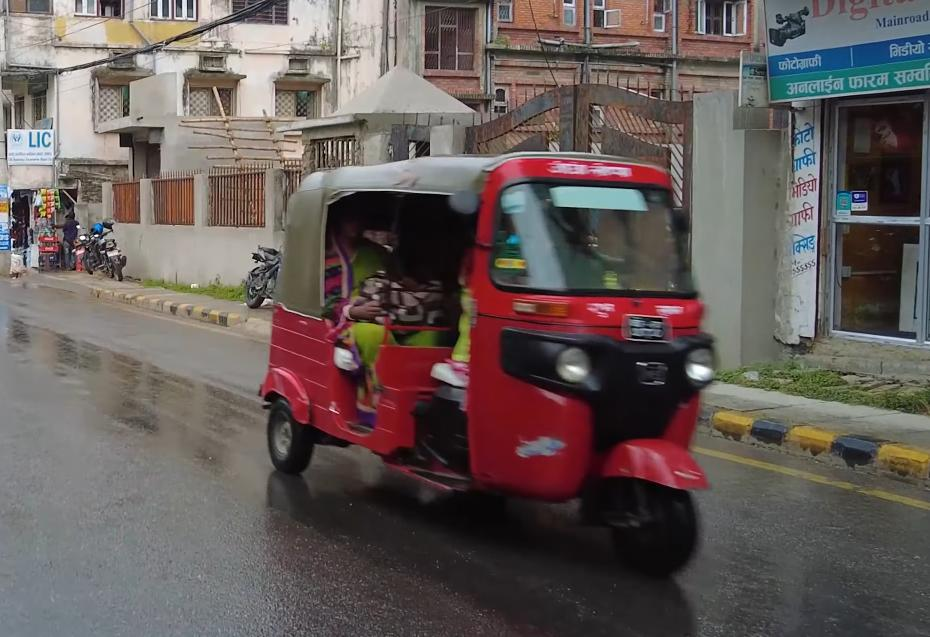auto_rickshaw: (242, 143, 722, 581)
